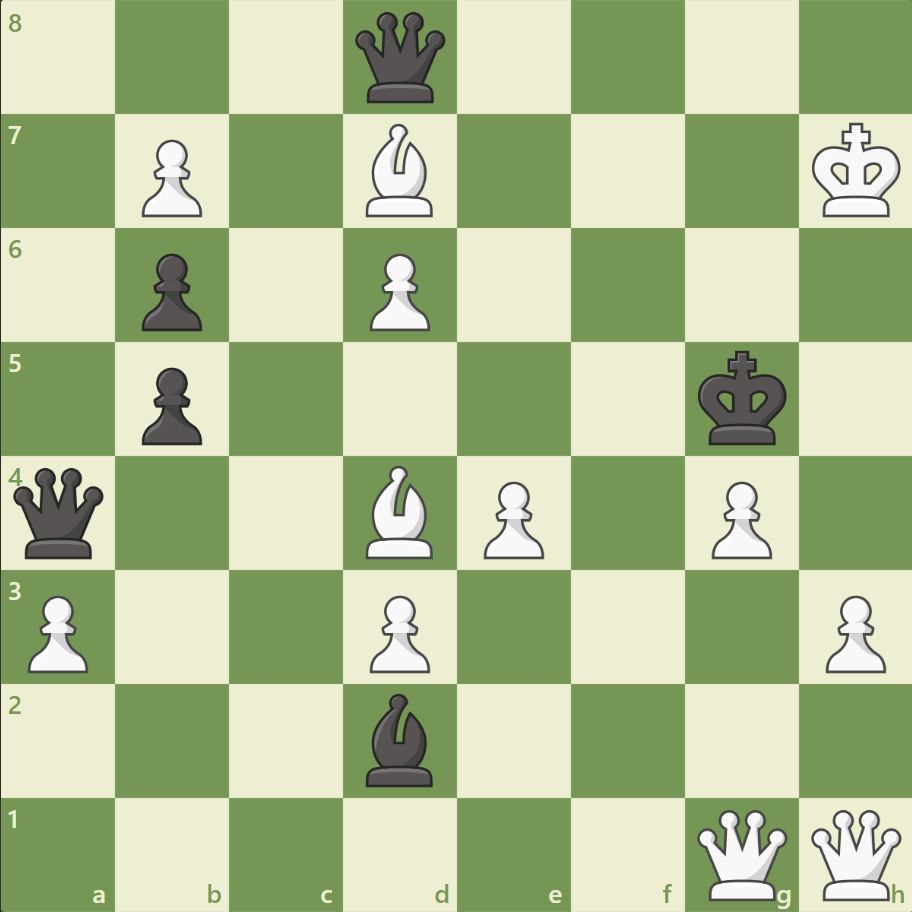B: (358, 460, 442, 563), (358, 120, 442, 222)
K: (806, 117, 906, 225)
P: (133, 132, 208, 223), (474, 473, 549, 564), (701, 473, 776, 564), (20, 586, 95, 677), (361, 246, 435, 337), (361, 586, 435, 677), (815, 586, 889, 677)
Q: (691, 804, 790, 903), (805, 804, 904, 903)
b: (358, 687, 442, 790)
k: (692, 344, 792, 452)
p: (133, 246, 208, 337), (133, 359, 208, 450)
q: (351, 9, 450, 108), (10, 463, 109, 562)
